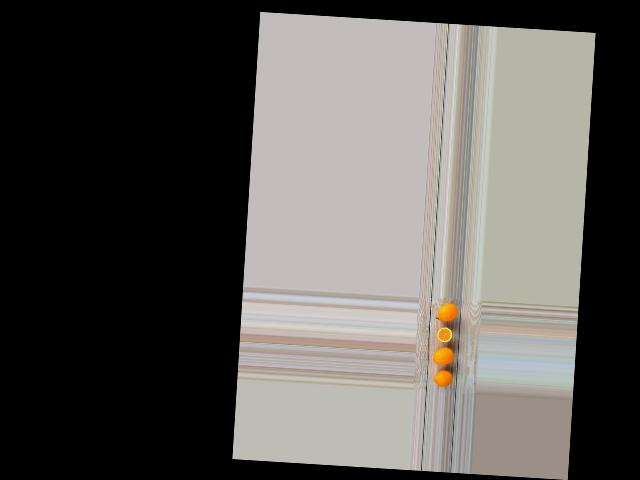lemon: (434, 302, 458, 322)
